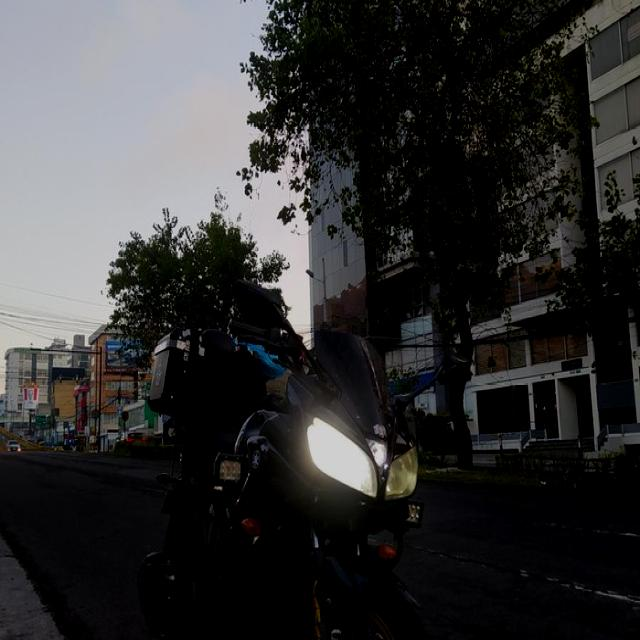MOTORCYCLE: (147, 311, 429, 638)
